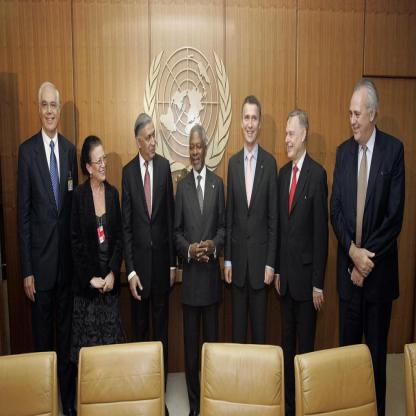face: (350, 96, 371, 142), (42, 86, 59, 131), (286, 117, 302, 158), (244, 104, 260, 142), (191, 132, 205, 171), (92, 145, 107, 181), (142, 123, 156, 160)
